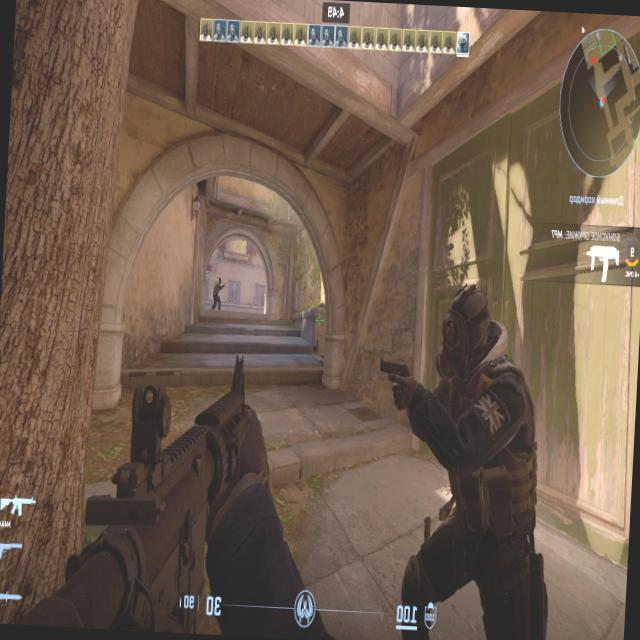CT: (422, 300, 506, 600), (212, 278, 221, 307)
CT_heat: (458, 308, 491, 368), (216, 279, 218, 286)
